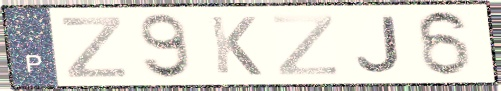6: (415, 8, 479, 81)
9: (136, 11, 194, 82)
J: (353, 14, 405, 76)
K: (206, 14, 265, 78)
Z: (58, 14, 129, 80), (270, 13, 340, 78)
